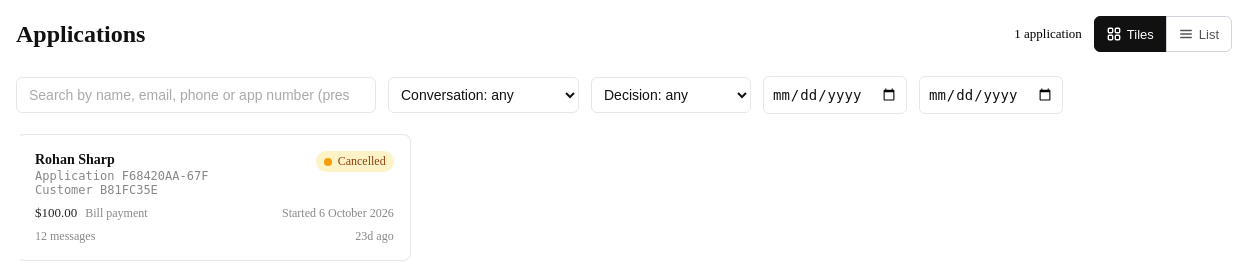
Scenario: ApplicationsView layout toggle › shows cards by default and switches to the table on List
Check: the link "F68420AA-67F" is shown, box [16,134,411,261]
Click the button "List" at (1199, 34), box [1166,16,1232,52]
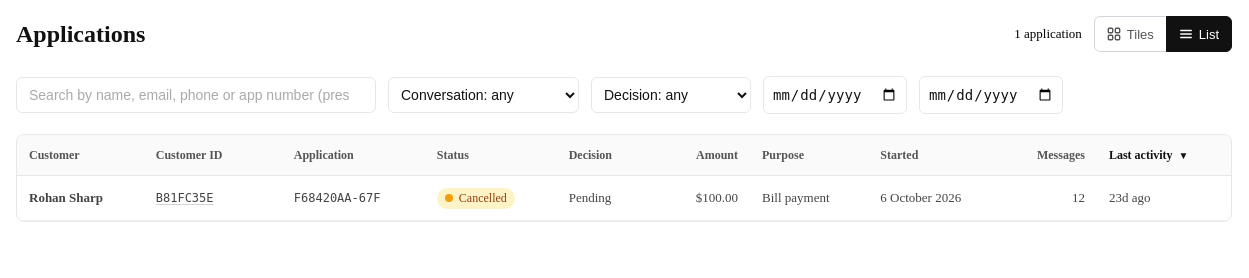
Check: the table is shown, box [17,135,1231,221]
